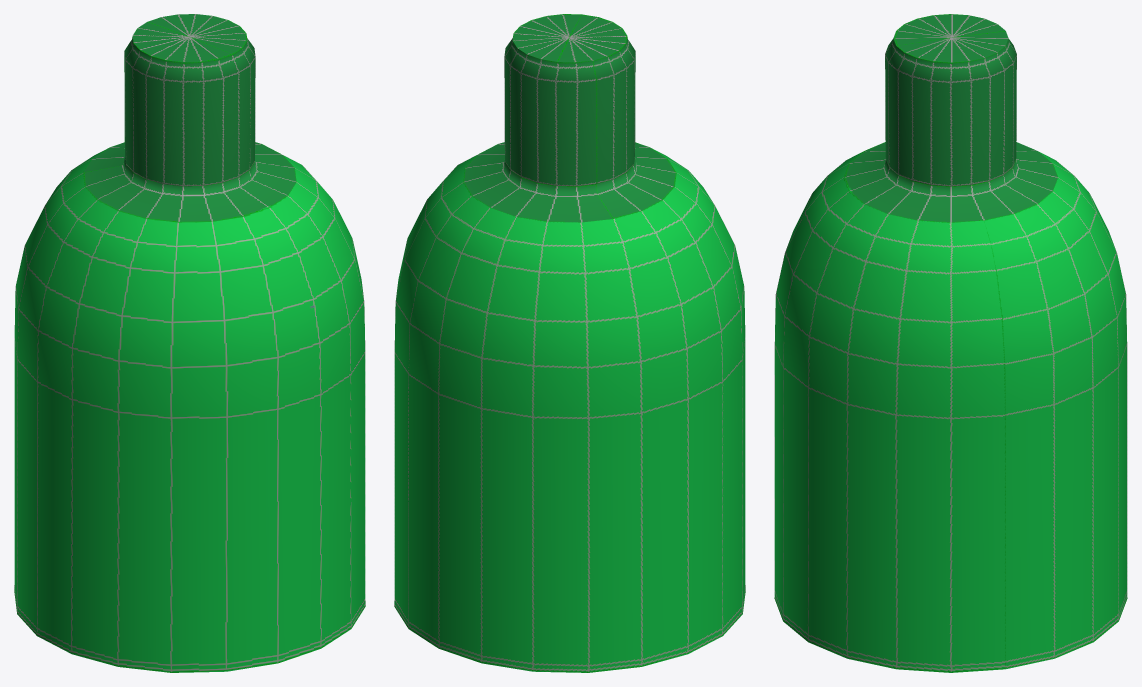
The model's file is menthe.glb.
3 views of the same model, side by side, from view 1: azimuth 30°, elevation 25°; view 2: azimuth 150°, elevation 25°; view 3: azimuth 270°, elevation 25° (orthographic).
Visible parts, largest first — view 1: pCylinder002; view 2: pCylinder002; view 3: pCylinder002.
Boxes of the visible parts, box(x1,y1,x2,y2) form: pCylinder002: box(14, 14, 365, 672); pCylinder002: box(394, 14, 745, 672); pCylinder002: box(774, 14, 1127, 672).
Bounding box in the file's own units: 0.0115 × 0.0201 × 0.0115.
Materials: 1 (1 with a texture image).
